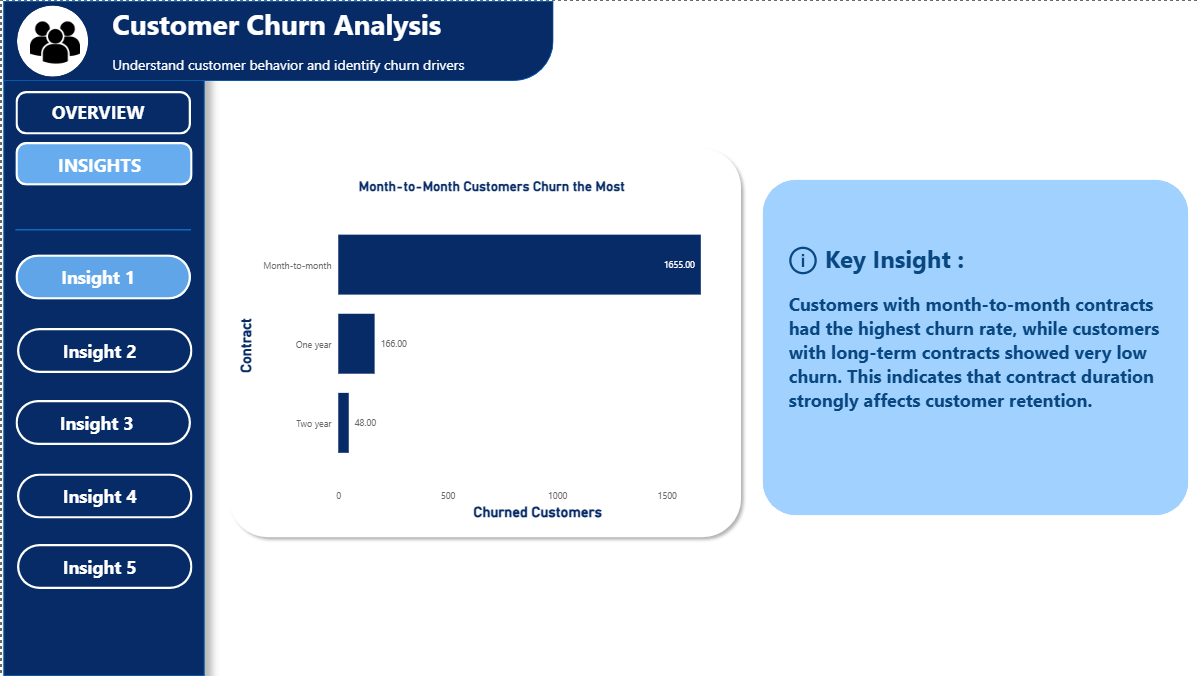

What the dashboard file says about the page in this screenshot:
{"tool":"powerbi","page":{"name":"insight 1","canvas":[1600,900],"ordinal":1},"visuals":[{"type":"group","id":"g1","title":"Group 5","box":[2,0,734,900],"z":0},{"type":"group","id":"g2","title":"Group 9","box":[2,0,734,900],"z":0,"group":"g1"},{"type":"group","id":"g3","title":"side bar","box":[2,0,734,900],"z":0,"group":"g2"},{"type":"group","id":"g4","title":"Group 3","box":[2,0,734,900],"z":0,"group":"g3"},{"type":"group","id":"g5","title":"Group 1","box":[2,0,734,900],"z":0,"group":"g4"},{"type":"shape","box":[2,0,268,900],"z":0,"group":"g5"},{"type":"shape","box":[294,188,700.3,536],"z":0,"group":"g7"},{"type":"shape","box":[1014,238,568,448],"z":0,"group":"g10"},{"type":"shape","box":[18,338,234,60],"z":0,"group":"g9"},{"type":"shape","box":[20,436,234,60],"z":0,"group":"g11"},{"type":"shape","box":[18,532,234,60],"z":0,"group":"g12"},{"type":"shape","box":[20,630,234,60],"z":0,"group":"g13"},{"type":"shape","box":[20,724,234,60],"z":0,"group":"g14"},{"type":"shape","box":[2.5,0,733.3,106.7],"z":1000,"group":"g5"},{"type":"textbox","box":[142.1,0,485.6,65.9],"z":1000,"group":"g4"},{"type":"shape","box":[20.3,5,95,95],"z":1000,"group":"g3"},{"type":"group","id":"g6","title":"Group 4","box":[18,120,234,58],"z":1000,"group":"g2"},{"type":"group","id":"g7","title":"contract type","box":[294,188,704,536],"z":1000},{"type":"clusteredBarChart","title":"Month-to-Month Customers Churn the Most","fields":{"Category":["cleaned_telco_churn.Contract"],"Y":["cleaned_telco_churn.Churned Customers"]},"box":[307.3,236,690.2,460.7],"z":1000,"group":"g7"},{"type":"shape","box":[18,284,234,42],"z":1000,"group":"g1"},{"type":"textbox","box":[1092,316,206,58],"z":1000,"group":"g10"},{"type":"textbox","box":[74,346,124,42],"z":1000,"group":"g9"},{"type":"textbox","box":[76,444,124,42],"z":1000,"group":"g11"},{"type":"textbox","box":[72,540,124,42],"z":1000,"group":"g12"},{"type":"textbox","box":[76,638,124,42],"z":1000,"group":"g13"},{"type":"textbox","box":[76,732,124,42],"z":1000,"group":"g14"},{"type":"image","box":[27,21.7,85,66.7],"z":2000,"group":"g3"},{"type":"textbox","box":[142.1,65.9,485.6,40.1],"z":2000,"group":"g4"},{"type":"group","id":"g8","title":"Group 4","box":[18,188,236,58],"z":2000,"group":"g2"},{"type":"group","id":"g9","title":"Group 2","box":[18,338,234,60],"z":2000,"group":"g1"},{"type":"textbox","box":[1044,382,520,200],"z":2000,"group":"g10"},{"type":"group","id":"g10","title":"Group 7","box":[1014,238,568,448],"z":2004},{"type":"actionButton","box":[1044,320,48,52],"z":3000,"group":"g10"},{"type":"group","id":"g11","title":"Group 2","box":[20,436,234,60],"z":3000,"group":"g1"},{"type":"group","id":"g12","title":"Group 2","box":[18,532,234,60],"z":4000,"group":"g1"},{"type":"group","id":"g13","title":"Group 2","box":[20,630,234,60],"z":5000,"group":"g1"},{"type":"group","id":"g14","title":"Group 6","box":[20,724,234,60],"z":6000,"group":"g1"},{"type":"shape","box":[18,120,234,58],"z":11000,"group":"g6"},{"type":"shape","box":[18,188,236,58],"z":11000,"group":"g8"},{"type":"textbox","box":[52,126,152,48],"z":12000,"group":"g6"},{"type":"textbox","box":[52,196,156,42],"z":12000,"group":"g8"}]}

Visuals, with their boxes in screenshot pixels (x1, y1, x2, y2), scaled from the page's 1600x900 canvas onto the 1201x676 screenshot:
"Group 5" group: x1=2, y1=0, x2=552, y2=675
"Group 9" group: x1=2, y1=0, x2=552, y2=675
"side bar" group: x1=2, y1=0, x2=552, y2=675
"Group 3" group: x1=2, y1=0, x2=552, y2=675
"Group 1" group: x1=2, y1=0, x2=552, y2=675
shape: x1=2, y1=0, x2=203, y2=675
shape: x1=221, y1=141, x2=746, y2=544
shape: x1=761, y1=179, x2=1187, y2=515
shape: x1=14, y1=254, x2=189, y2=299
shape: x1=15, y1=327, x2=191, y2=373
shape: x1=14, y1=400, x2=189, y2=445
shape: x1=15, y1=473, x2=191, y2=518
shape: x1=15, y1=544, x2=191, y2=589
shape: x1=2, y1=0, x2=552, y2=80
textbox: x1=107, y1=0, x2=471, y2=49
shape: x1=15, y1=4, x2=87, y2=75
"Group 4" group: x1=14, y1=90, x2=189, y2=134
"contract type" group: x1=221, y1=141, x2=749, y2=544
"Month-to-Month Customers Churn the Most" clusteredBarChart: x1=231, y1=177, x2=749, y2=523
shape: x1=14, y1=213, x2=189, y2=245
textbox: x1=820, y1=237, x2=974, y2=281
textbox: x1=56, y1=260, x2=149, y2=291
textbox: x1=57, y1=333, x2=150, y2=365
textbox: x1=54, y1=406, x2=147, y2=437
textbox: x1=57, y1=479, x2=150, y2=511
textbox: x1=57, y1=550, x2=150, y2=581
image: x1=20, y1=16, x2=84, y2=66
textbox: x1=107, y1=49, x2=471, y2=80
"Group 4" group: x1=14, y1=141, x2=191, y2=185
"Group 2" group: x1=14, y1=254, x2=189, y2=299
textbox: x1=784, y1=287, x2=1174, y2=437
"Group 7" group: x1=761, y1=179, x2=1187, y2=515
actionButton: x1=784, y1=240, x2=820, y2=279
"Group 2" group: x1=15, y1=327, x2=191, y2=373
"Group 2" group: x1=14, y1=400, x2=189, y2=445
"Group 2" group: x1=15, y1=473, x2=191, y2=518
"Group 6" group: x1=15, y1=544, x2=191, y2=589
shape: x1=14, y1=90, x2=189, y2=134
shape: x1=14, y1=141, x2=191, y2=185
textbox: x1=39, y1=95, x2=153, y2=131
textbox: x1=39, y1=147, x2=156, y2=179
